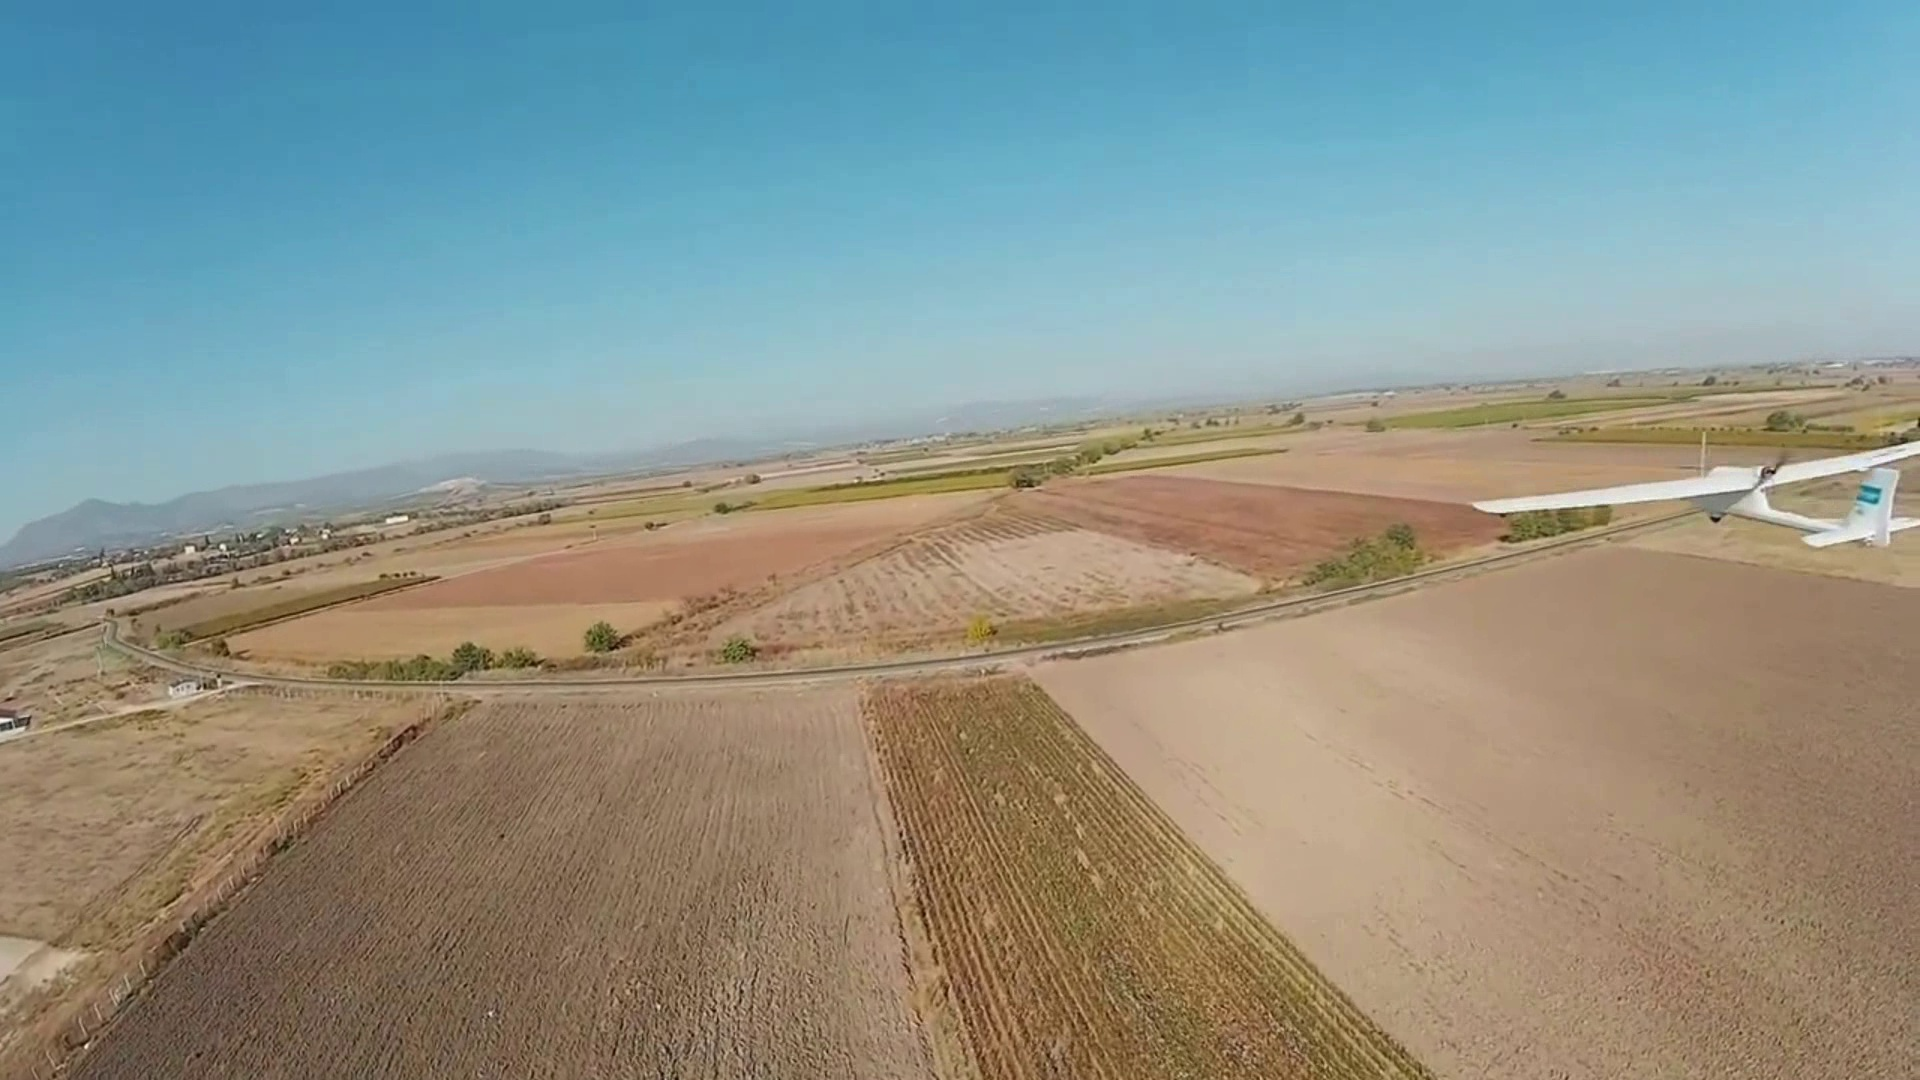airplane: (1472, 435, 1917, 549)
